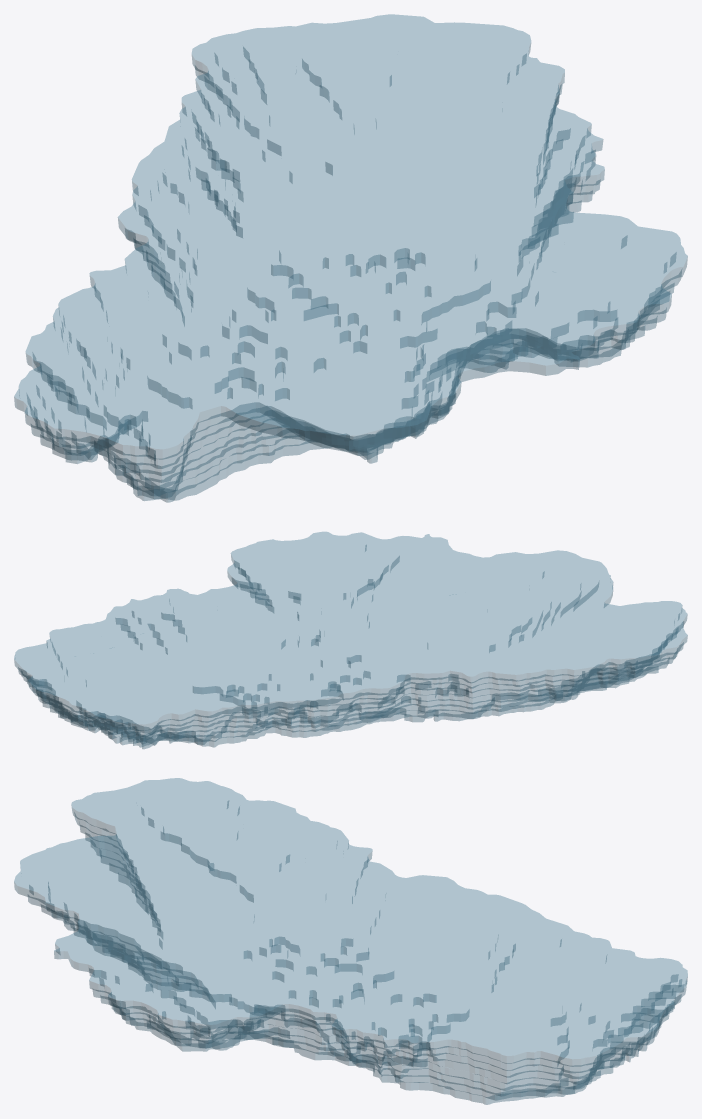
The model's file is water_0-draco.73c5db4d.glb.
The picture shows the model from 3 angles, top to bottom: view 1: azimuth 30°, elevation 25°; view 2: azimuth 150°, elevation 25°; view 3: azimuth 270°, elevation 25°; orthographic projection. The views are drawn at different scales.
Visible parts, largest first — view 1: water_0; view 2: water_0; view 3: water_0.
Boxes of the visible parts, x1=… form: water_0: x1=14, y1=14, x2=687, y2=502; water_0: x1=14, y1=532, x2=687, y2=748; water_0: x1=14, y1=778, x2=687, y2=1104.
Size of the model in its own units: 85.18 by 10.16 by 86.28.
1 material, 1 textured.
